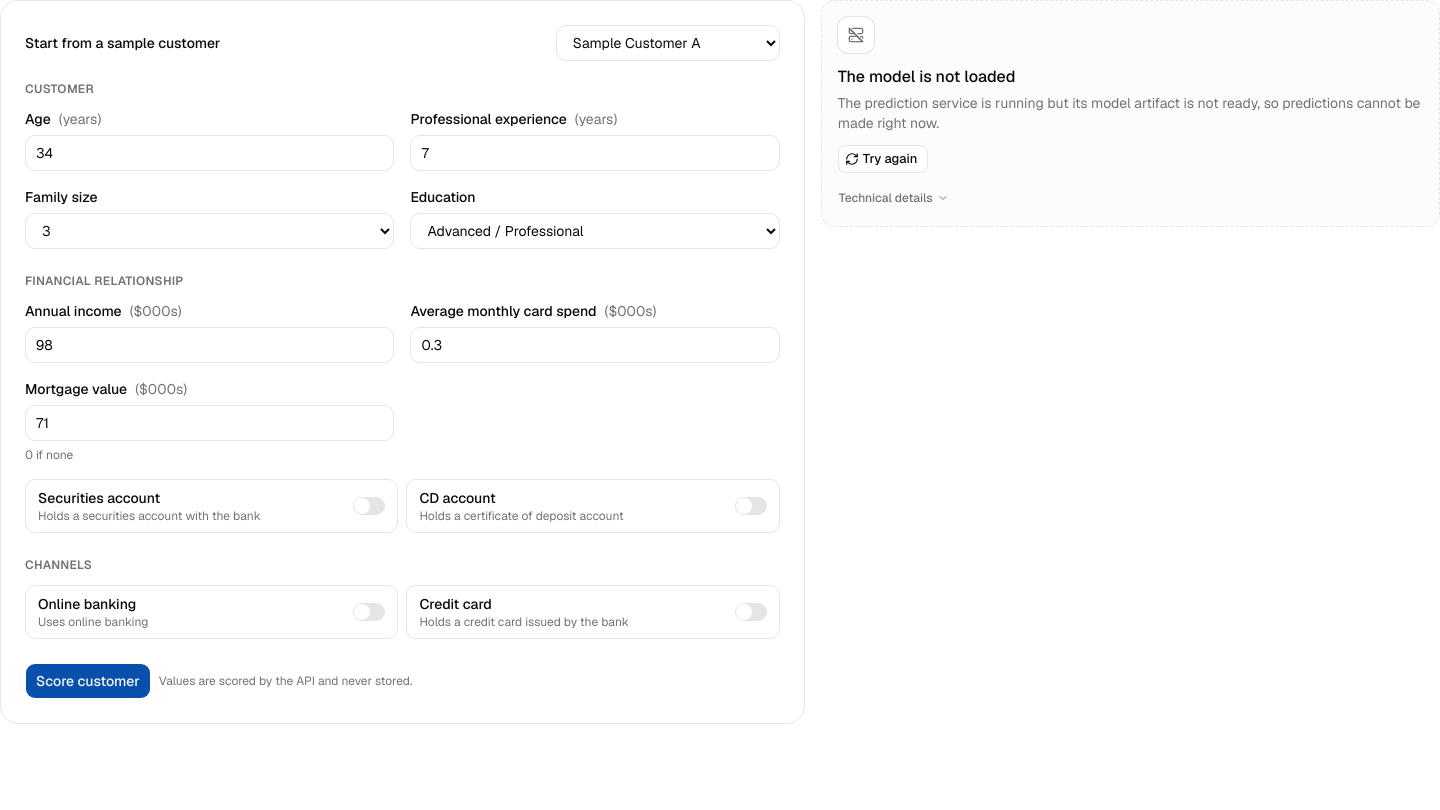
Test: CustomerExplorer › shows a readable service error with retry when prediction fails
Expected: the message shows "model is not loaded", [838, 66, 1015, 87]
Expected: the message does not show "artifact missing", [821, 0, 1439, 227]
Click the button "Try again": click(883, 159) [838, 145, 928, 173]
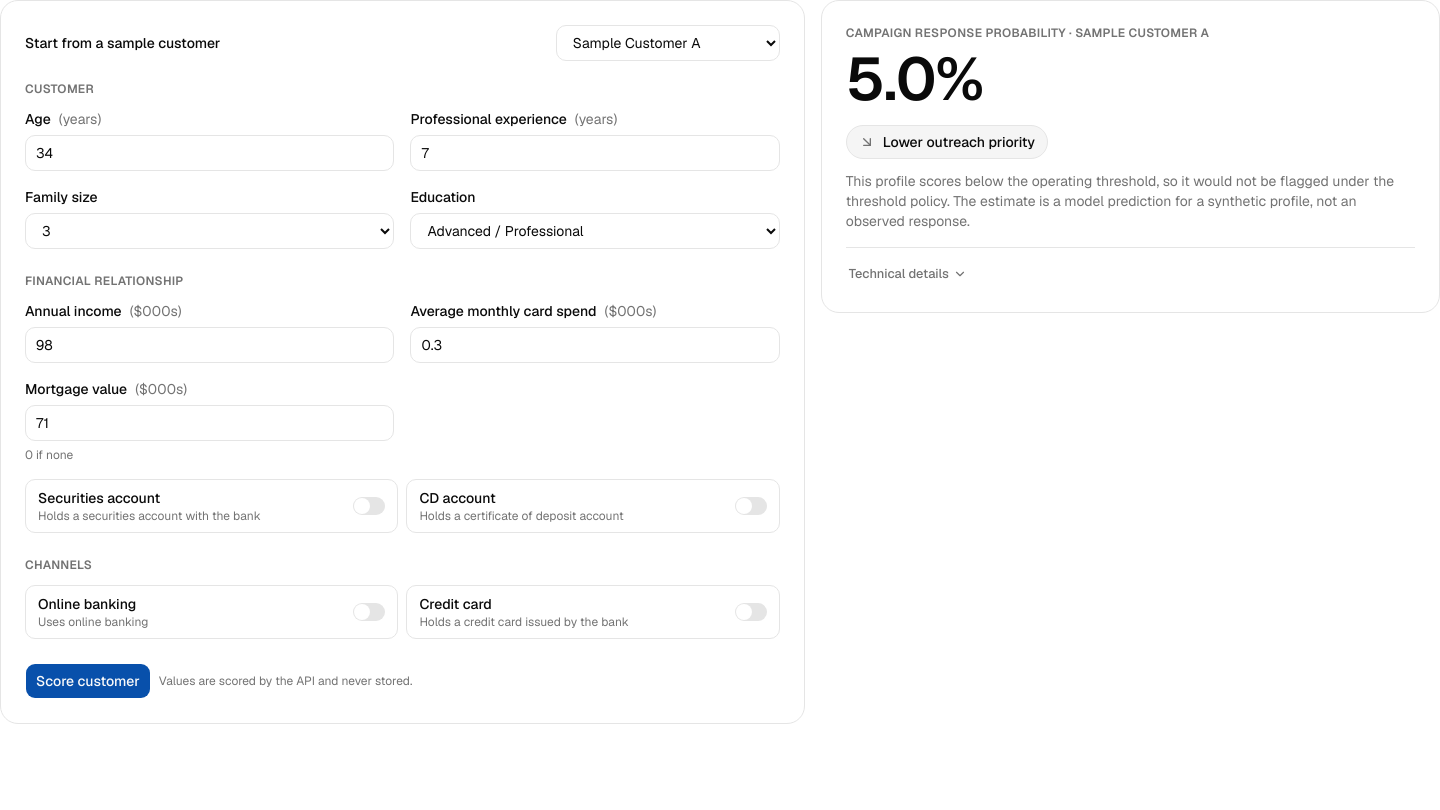
Expected: the text "5.0%" is shown, [846, 40, 983, 118]
